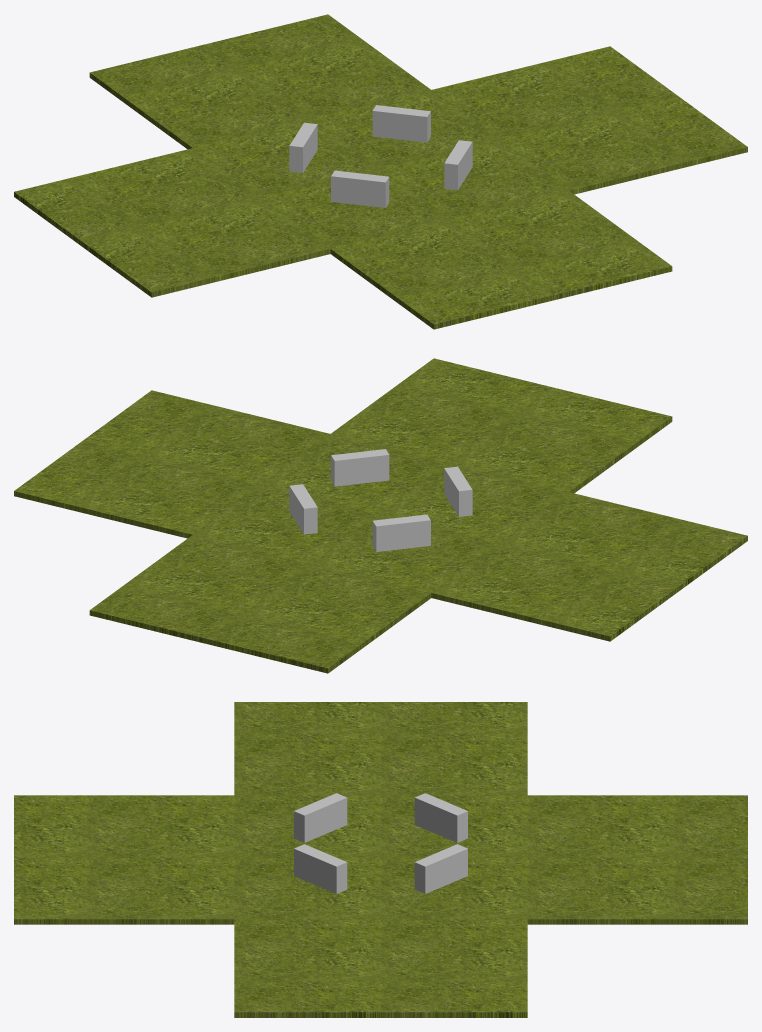
The model's file is stadium03.fbx.
The picture shows the model from 3 angles, top to bottom: view 1: azimuth 30°, elevation 25°; view 2: azimuth 150°, elevation 25°; view 3: azimuth 270°, elevation 25°; orthographic projection. The views are drawn at different scales.
Parts seen in each view (by area): view 1: center, Box007, Box006, Box008, Box005; view 2: center, Box005, Box008, Box006, Box007; view 3: center, Box005, Box006, Box007, Box008.
Part boxes in pixels (box(x1,y1,x2,y2)): center: box(14, 14, 747, 329); Box007: box(331, 170, 389, 207); Box006: box(372, 105, 430, 142); Box008: box(444, 140, 472, 190); Box005: box(289, 122, 317, 172); center: box(14, 358, 747, 673); Box005: box(372, 514, 430, 551); Box008: box(331, 449, 389, 486); Box006: box(289, 484, 317, 534); Box007: box(444, 466, 472, 516); center: box(14, 702, 747, 1017); Box005: box(414, 793, 467, 842); Box006: box(414, 844, 467, 893); Box007: box(294, 793, 347, 842); Box008: box(294, 844, 347, 893).
Size of the model in its own units: 2430 by 120 by 2430.
